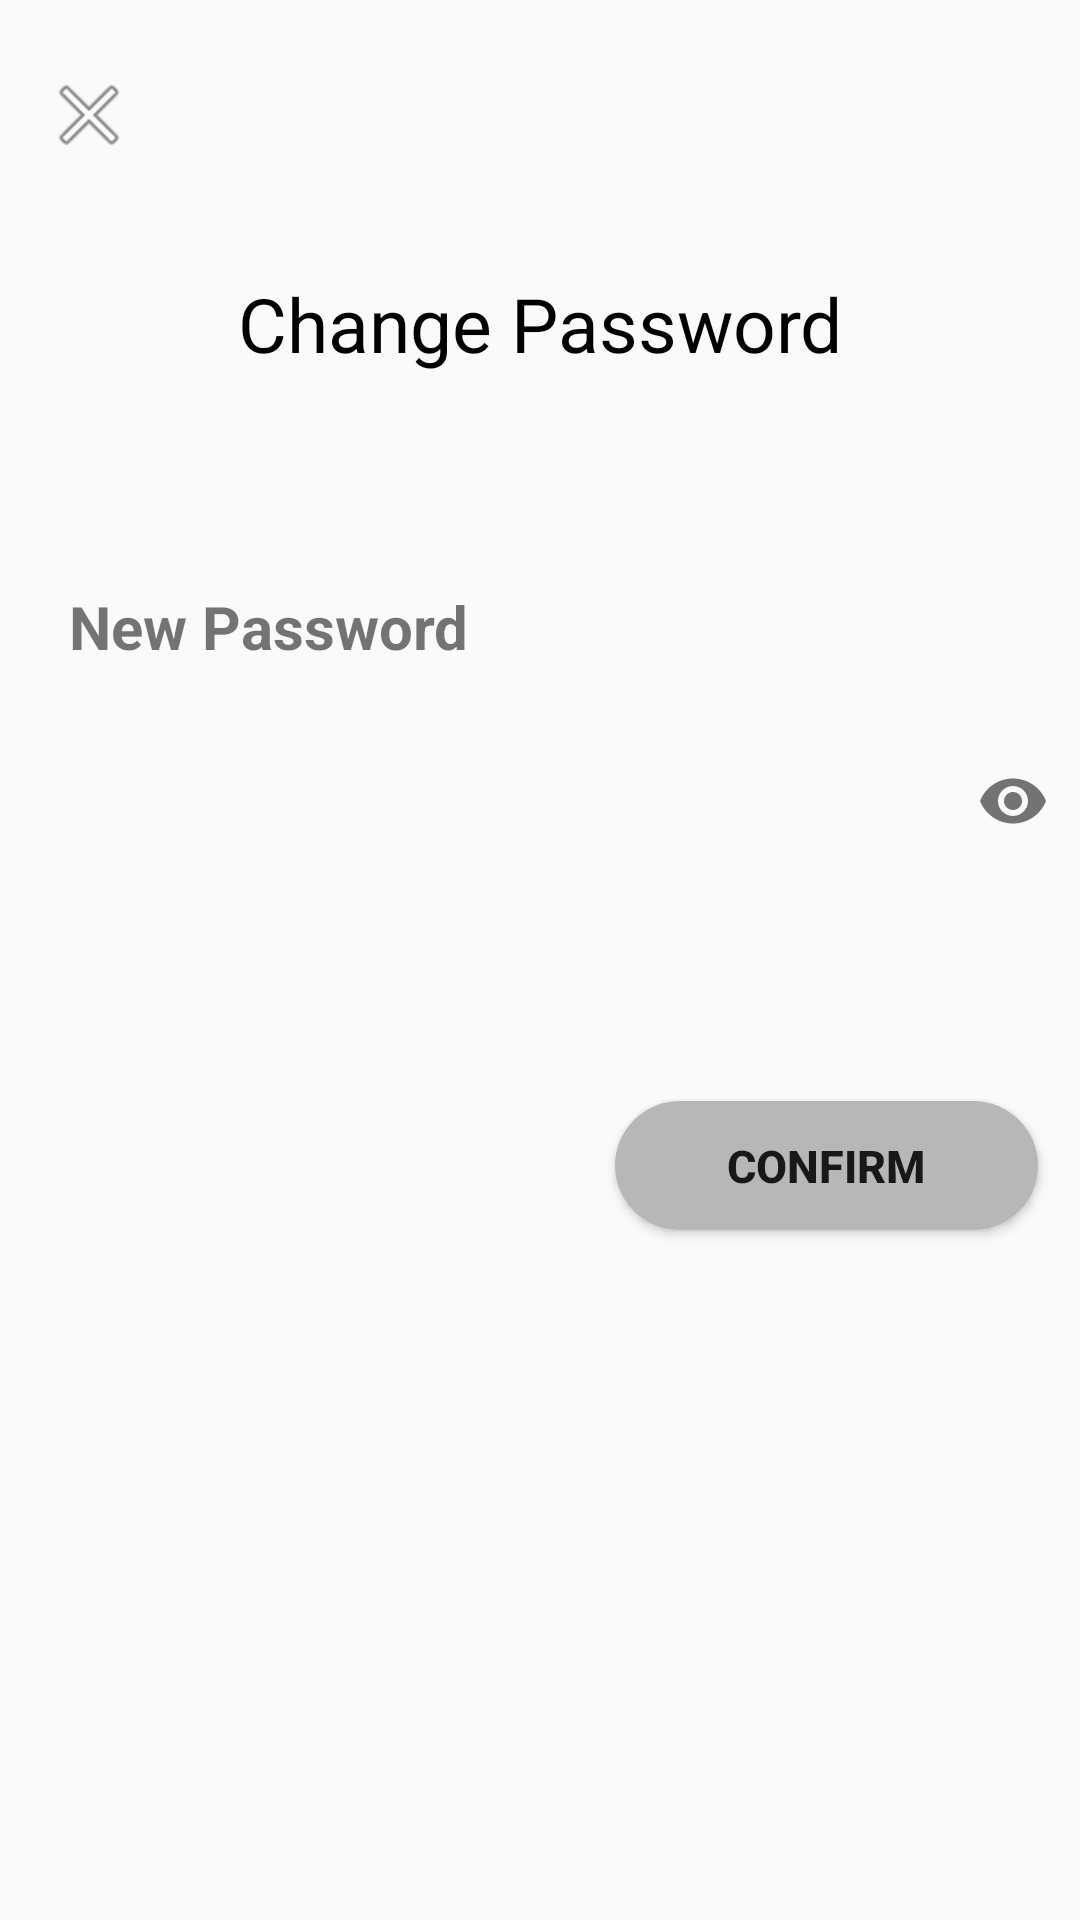

Screen size 1080x1920. Icon name, then its box in pixels as box=[x1, y1, x2, y2]:
close clear cancel: box=[59, 85, 119, 145]
